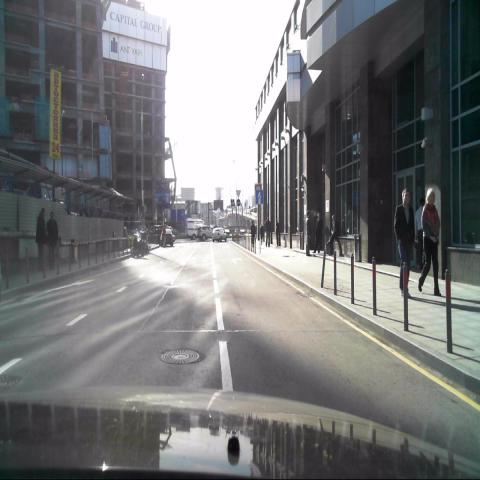5_6: (256, 189, 264, 204)
